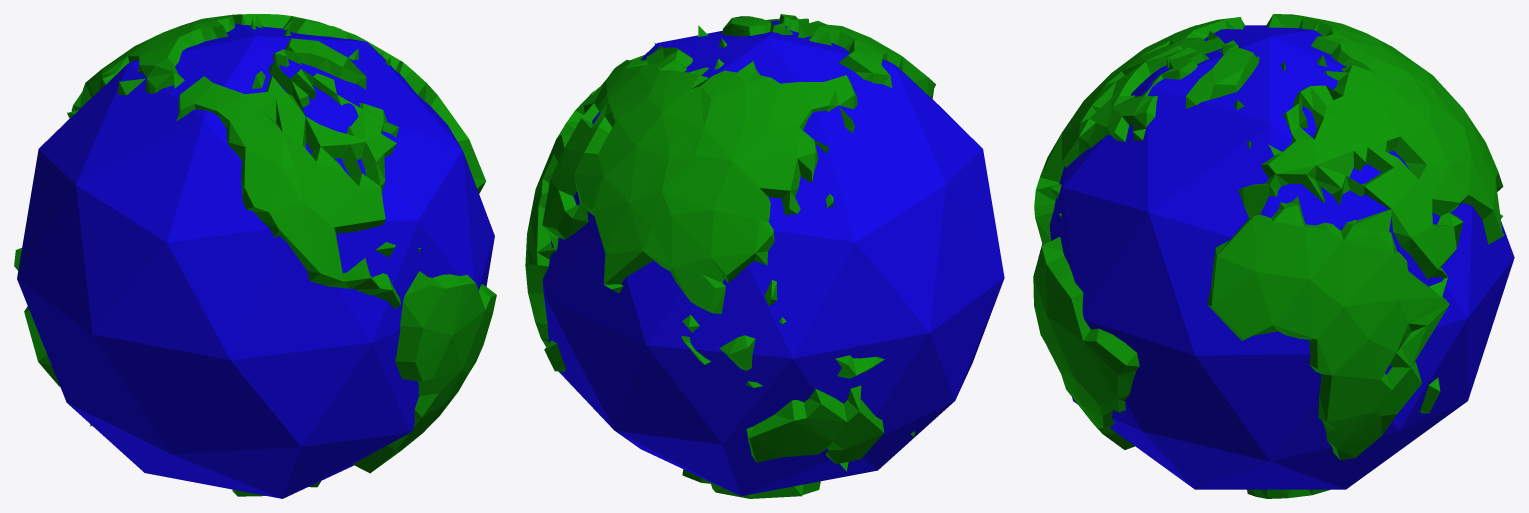
The model's file is Ziemia.fbx.
3 renders of one model, left to right at view 1: azimuth 30°, elevation 25°; view 2: azimuth 150°, elevation 25°; view 3: azimuth 270°, elevation 25°, orthographic.
Visible parts, largest first — view 1: Icosphere, Sphere; view 2: Icosphere, Sphere; view 3: Icosphere, Sphere.
Part boxes in pixels (box(x1,y1,x2,y2)): Icosphere: box(17, 23, 494, 498); Sphere: box(14, 14, 496, 496); Icosphere: box(542, 20, 1004, 496); Sphere: box(525, 14, 935, 498); Icosphere: box(1038, 25, 1514, 489); Sphere: box(1033, 14, 1504, 498).
Size of the model in its own units: 204 by 210 by 207.
